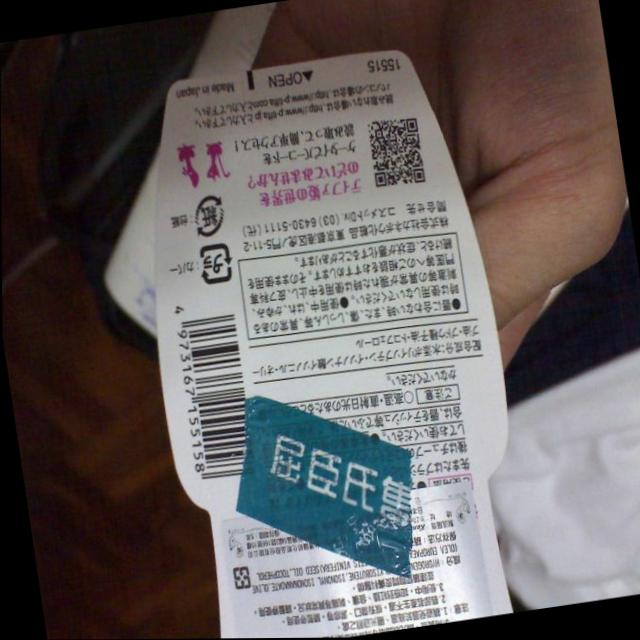qrcode: (367, 117, 425, 189)
